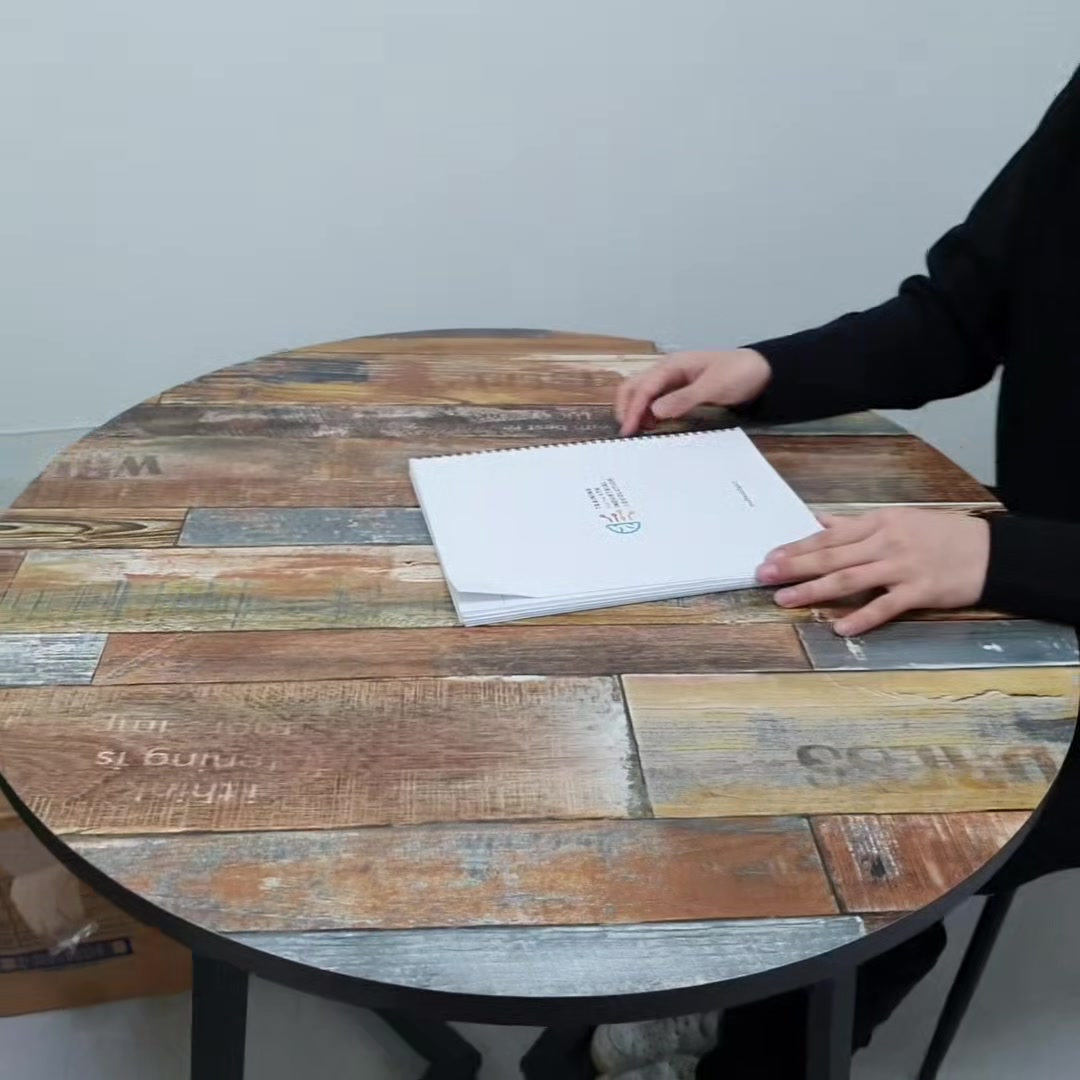book: (400, 420, 848, 617)
